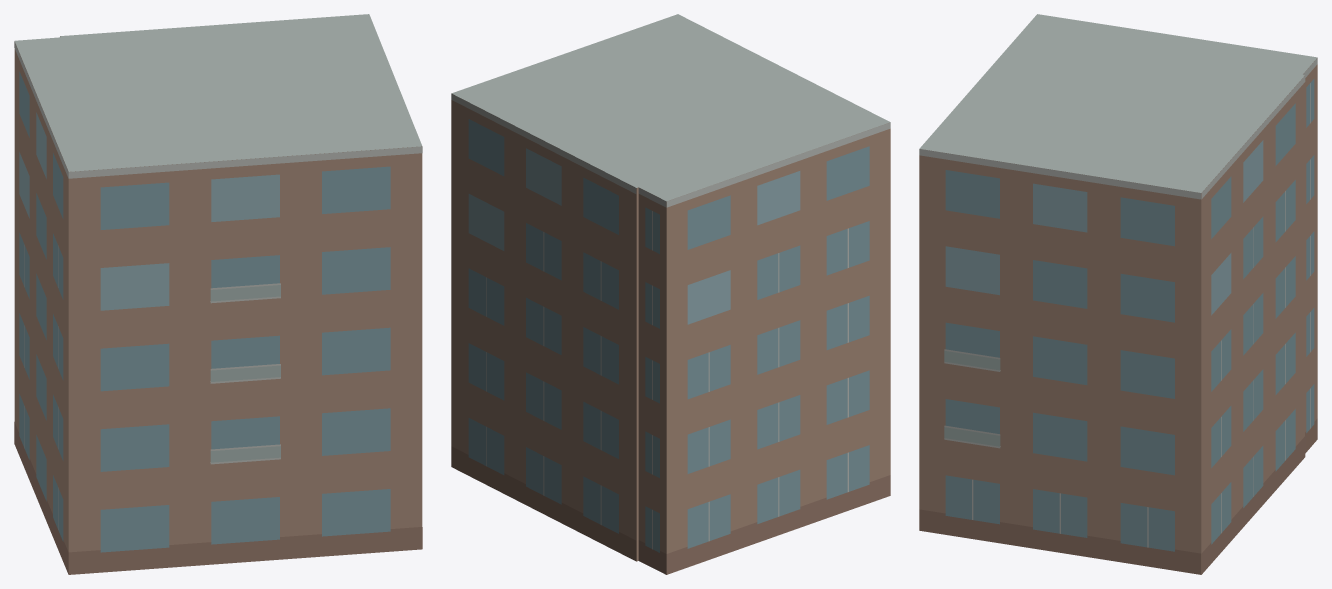
Rendered from survey-upis-32533324.glb.
3 views of the same model, side by side, from view 1: azimuth 30°, elevation 25°; view 2: azimuth 150°, elevation 25°; view 3: azimuth 270°, elevation 25° (orthographic). The views are drawn at different scales.
Visible parts, largest first — view 1: survey-upis-32533324.tmp; view 2: survey-upis-32533324.tmp; view 3: survey-upis-32533324.tmp.
Part boxes in pixels (x1,y1,x2,y2): survey-upis-32533324.tmp: [14, 14, 422, 574]; survey-upis-32533324.tmp: [451, 14, 890, 574]; survey-upis-32533324.tmp: [919, 14, 1317, 574].
Bounding box in the file's own units: 14.39 × 14.3 × 13.53.
